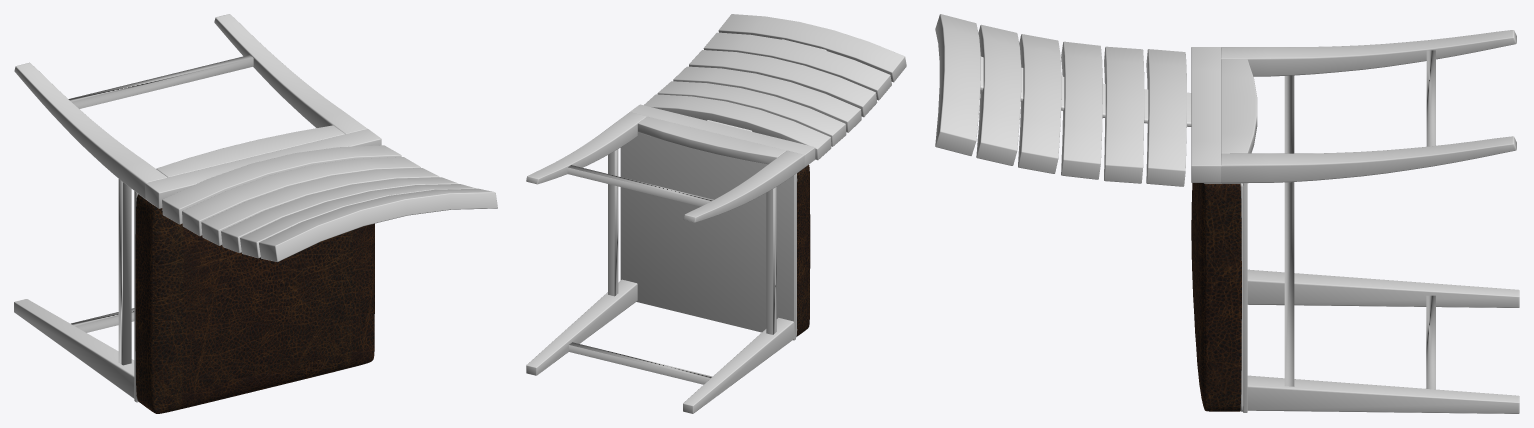
File: testmodel.obj
3 renders of one model, left to right at view 1: azimuth 30°, elevation 25°; view 2: azimuth 150°, elevation 25°; view 3: azimuth 270°, elevation 25°, orthographic. The views are drawn at different scales.
Parts seen in each view (by area): view 1: Box01, ChamferBox15, ChamferBox04, ChamferBox06, ChamferBox10, ChamferBox11, ChamferBox12, ChamferBox02, ChamferBox09, ChamferBox13, ChamferBox08, ChamferBox03 (+3 smaller); view 2: ChamferBox01, ChamferBox15, ChamferBox14, ChamferBox10, ChamferBox13, ChamferBox12, ChamferBox11, ChamferBox08, ChamferBox02, ChamferBox05, ChamferBox04, ChamferBox06 (+6 smaller); view 3: Box01, ChamferBox05, ChamferBox06, ChamferBox02, ChamferBox04, ChamferBox15, ChamferBox14, ChamferBox13, ChamferBox12, ChamferBox11, ChamferBox10, ChamferBox09 (+8 smaller).
Boxes of the visible parts, box(x1,y1,x2,y2) form: Box01: box(135, 194, 374, 413); ChamferBox15: box(259, 188, 497, 261); ChamferBox04: box(14, 62, 167, 198); ChamferBox06: box(214, 14, 367, 133); ChamferBox10: box(162, 145, 401, 224); ChamferBox11: box(182, 157, 420, 236); ChamferBox12: box(201, 168, 439, 245); ChamferBox02: box(14, 299, 134, 398); ChamferBox09: box(145, 129, 381, 208); ChamferBox13: box(221, 177, 458, 252); ChamferBox08: box(156, 125, 344, 177); ChamferBox03: box(118, 179, 131, 365); ChamferBox01: box(620, 124, 795, 340); ChamferBox15: box(718, 14, 906, 82); ChamferBox14: box(703, 32, 891, 100); ChamferBox10: box(644, 94, 831, 160); ChamferBox13: box(689, 50, 877, 117); ChamferBox12: box(673, 66, 861, 132); ChamferBox11: box(657, 81, 846, 146); ChamferBox08: box(638, 116, 786, 164); ChamferBox02: box(683, 317, 794, 413); ChamferBox05: box(526, 279, 637, 375); ChamferBox04: box(683, 150, 804, 222); ChamferBox06: box(526, 112, 646, 184); Box01: box(1191, 183, 1241, 411); ChamferBox05: box(1247, 375, 1519, 413); ChamferBox06: box(1221, 136, 1516, 183); ChamferBox02: box(1247, 269, 1519, 307); ChamferBox04: box(1221, 30, 1516, 76); ChamferBox15: box(935, 14, 980, 155); ChamferBox14: box(976, 24, 1021, 165); ChamferBox13: box(1018, 34, 1061, 173); ChamferBox12: box(1061, 41, 1102, 179); ChamferBox11: box(1104, 46, 1144, 183); ChamferBox10: box(1146, 49, 1186, 186); ChamferBox09: box(1191, 47, 1221, 182).
Size of the model in its own units: 0.4666 by 0.5426 by 0.9595.
Materials: 3 (1 with a texture image).
